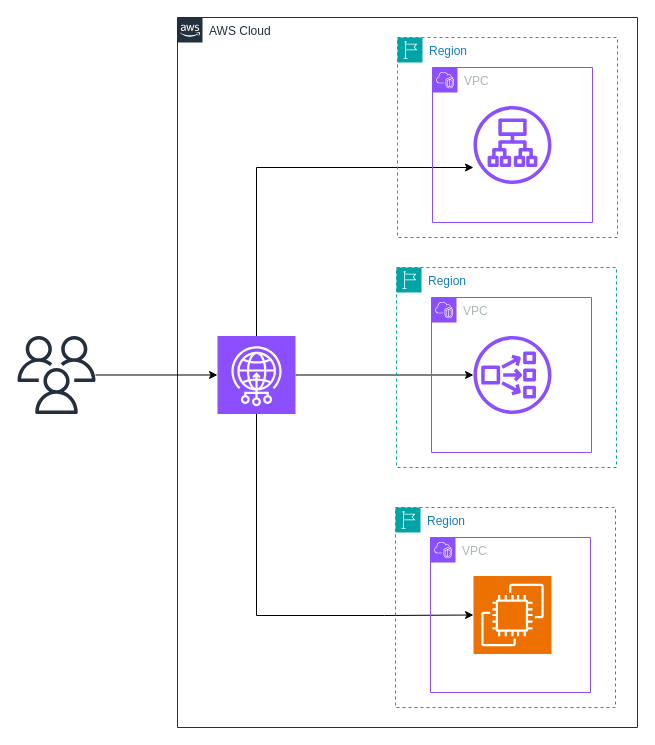
This 655x745 diagram has some shape labels left out. The shapes that lost their labels are listed below. From the top down, each one's centre as x and y in pixels, then its label:
At point (512, 145): "Application Load Balancer".
At point (256, 374): "AWS Global Accelerator".
At point (512, 375): "Network Load Balancer".
At point (512, 614): "Amazon EC2".
